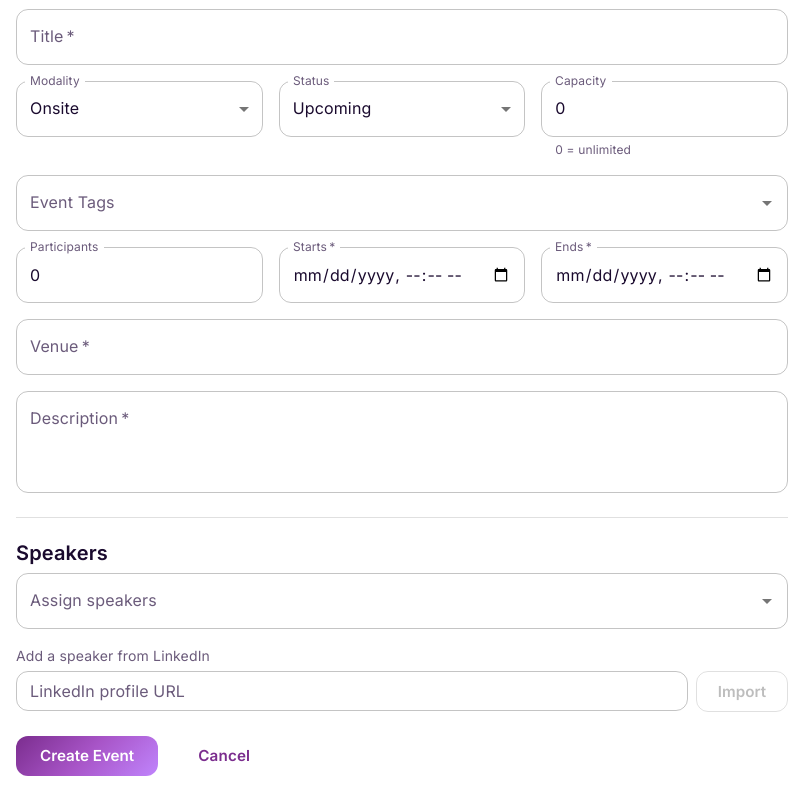
it: EventFormPage - create › imports a speaker from a LinkedIn URL and assigns them
(page scrolled)
Type "https://www.linkedin.com/in/jane-doe" into the field labelled "LinkedIn profile URL" at (352, 691), box [16,671,688,711]
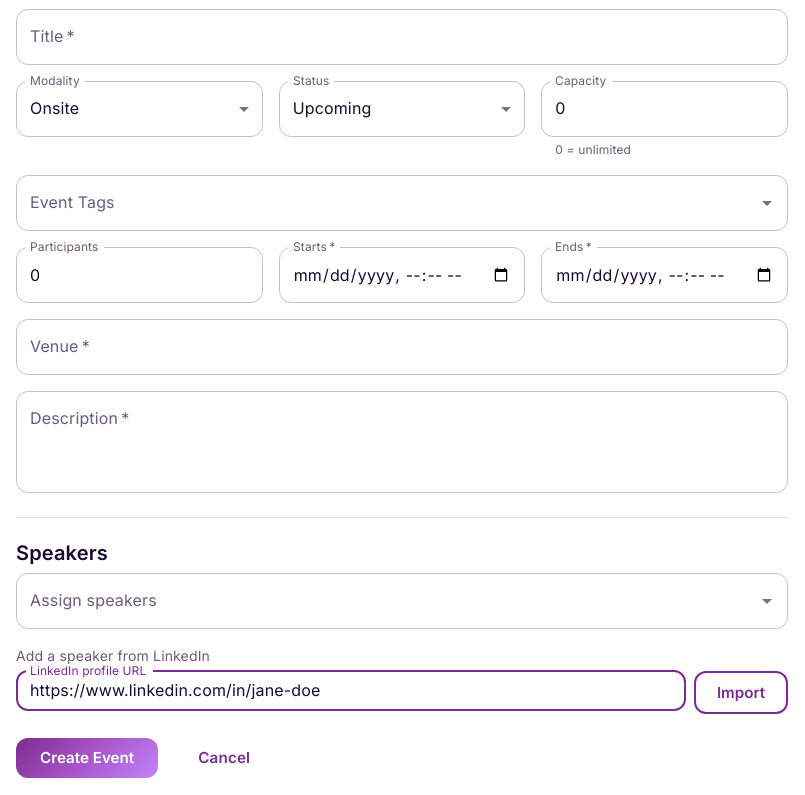
Click the button "Import" at (741, 693), box [694,671,788,714]
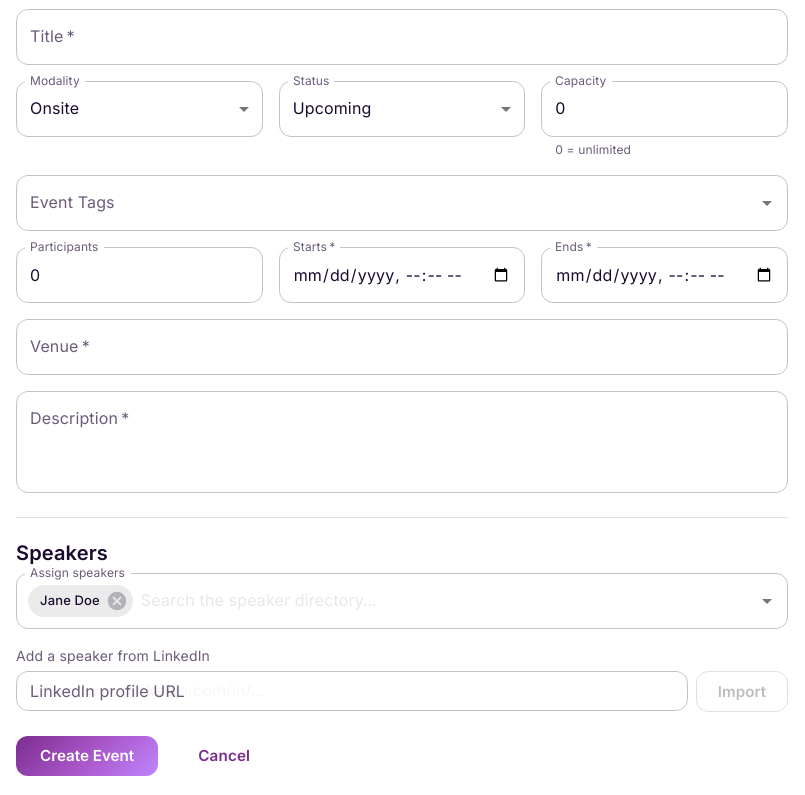
Expected: the text "Jane Doe" is shown, [40,592,100,608]
